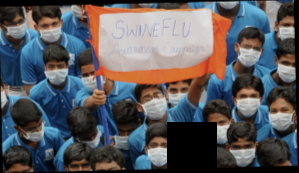with_mask: (140, 90, 167, 120), (266, 104, 294, 132), (80, 67, 106, 95), (229, 141, 256, 167), (146, 138, 171, 166), (43, 61, 69, 87), (206, 116, 230, 144), (236, 90, 260, 118), (237, 40, 261, 67), (37, 18, 62, 42), (20, 119, 44, 143), (166, 84, 189, 109), (275, 57, 295, 83), (4, 16, 26, 39), (77, 129, 101, 150), (276, 19, 294, 40)
